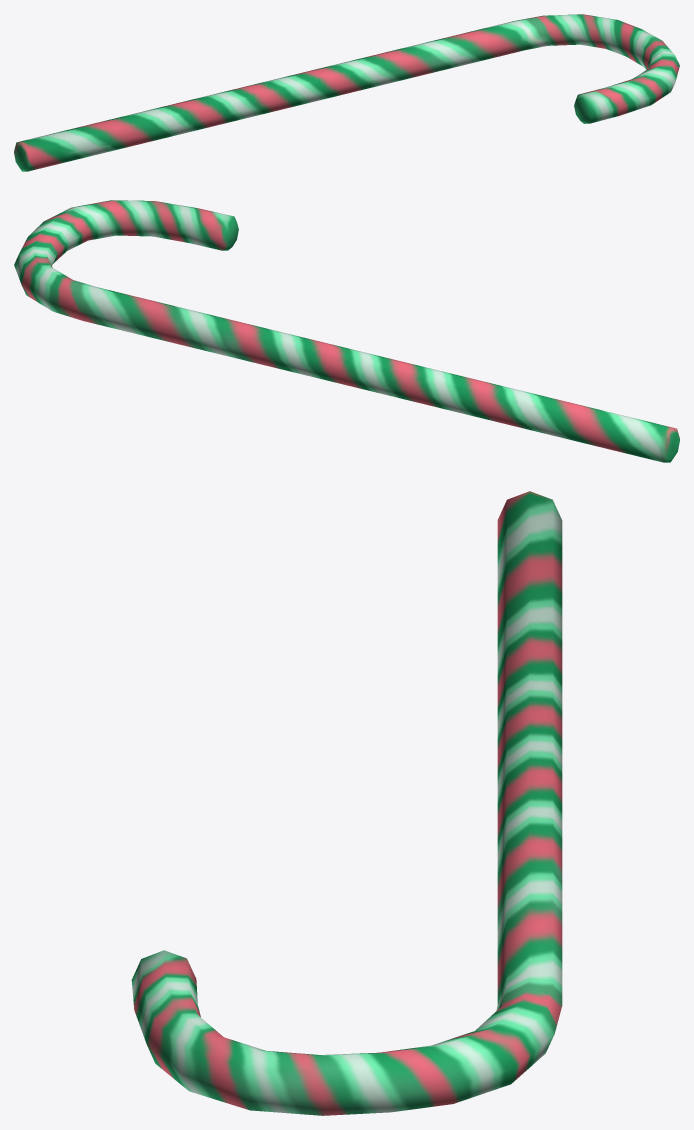
The model's file is CHP_MOD_Candy_cane_green_orange.fbx.
The picture shows the model from 3 angles, top to bottom: view 1: azimuth 30°, elevation 25°; view 2: azimuth 150°, elevation 25°; view 3: azimuth 270°, elevation 25°; orthographic projection. The views are drawn at different scales.
Parts seen in each view (by area): view 1: CHP_MOD_Candy_cane_green_orange; view 2: CHP_MOD_Candy_cane_green_orange; view 3: CHP_MOD_Candy_cane_green_orange.
Part boxes in pixels (box(x1,y1,x2,y2)): CHP_MOD_Candy_cane_green_orange: box(14, 14, 679, 171); CHP_MOD_Candy_cane_green_orange: box(14, 200, 679, 462); CHP_MOD_Candy_cane_green_orange: box(131, 491, 562, 1115).
Size of the model in its own units: 1.18 by 0.0557 by 0.3706.
